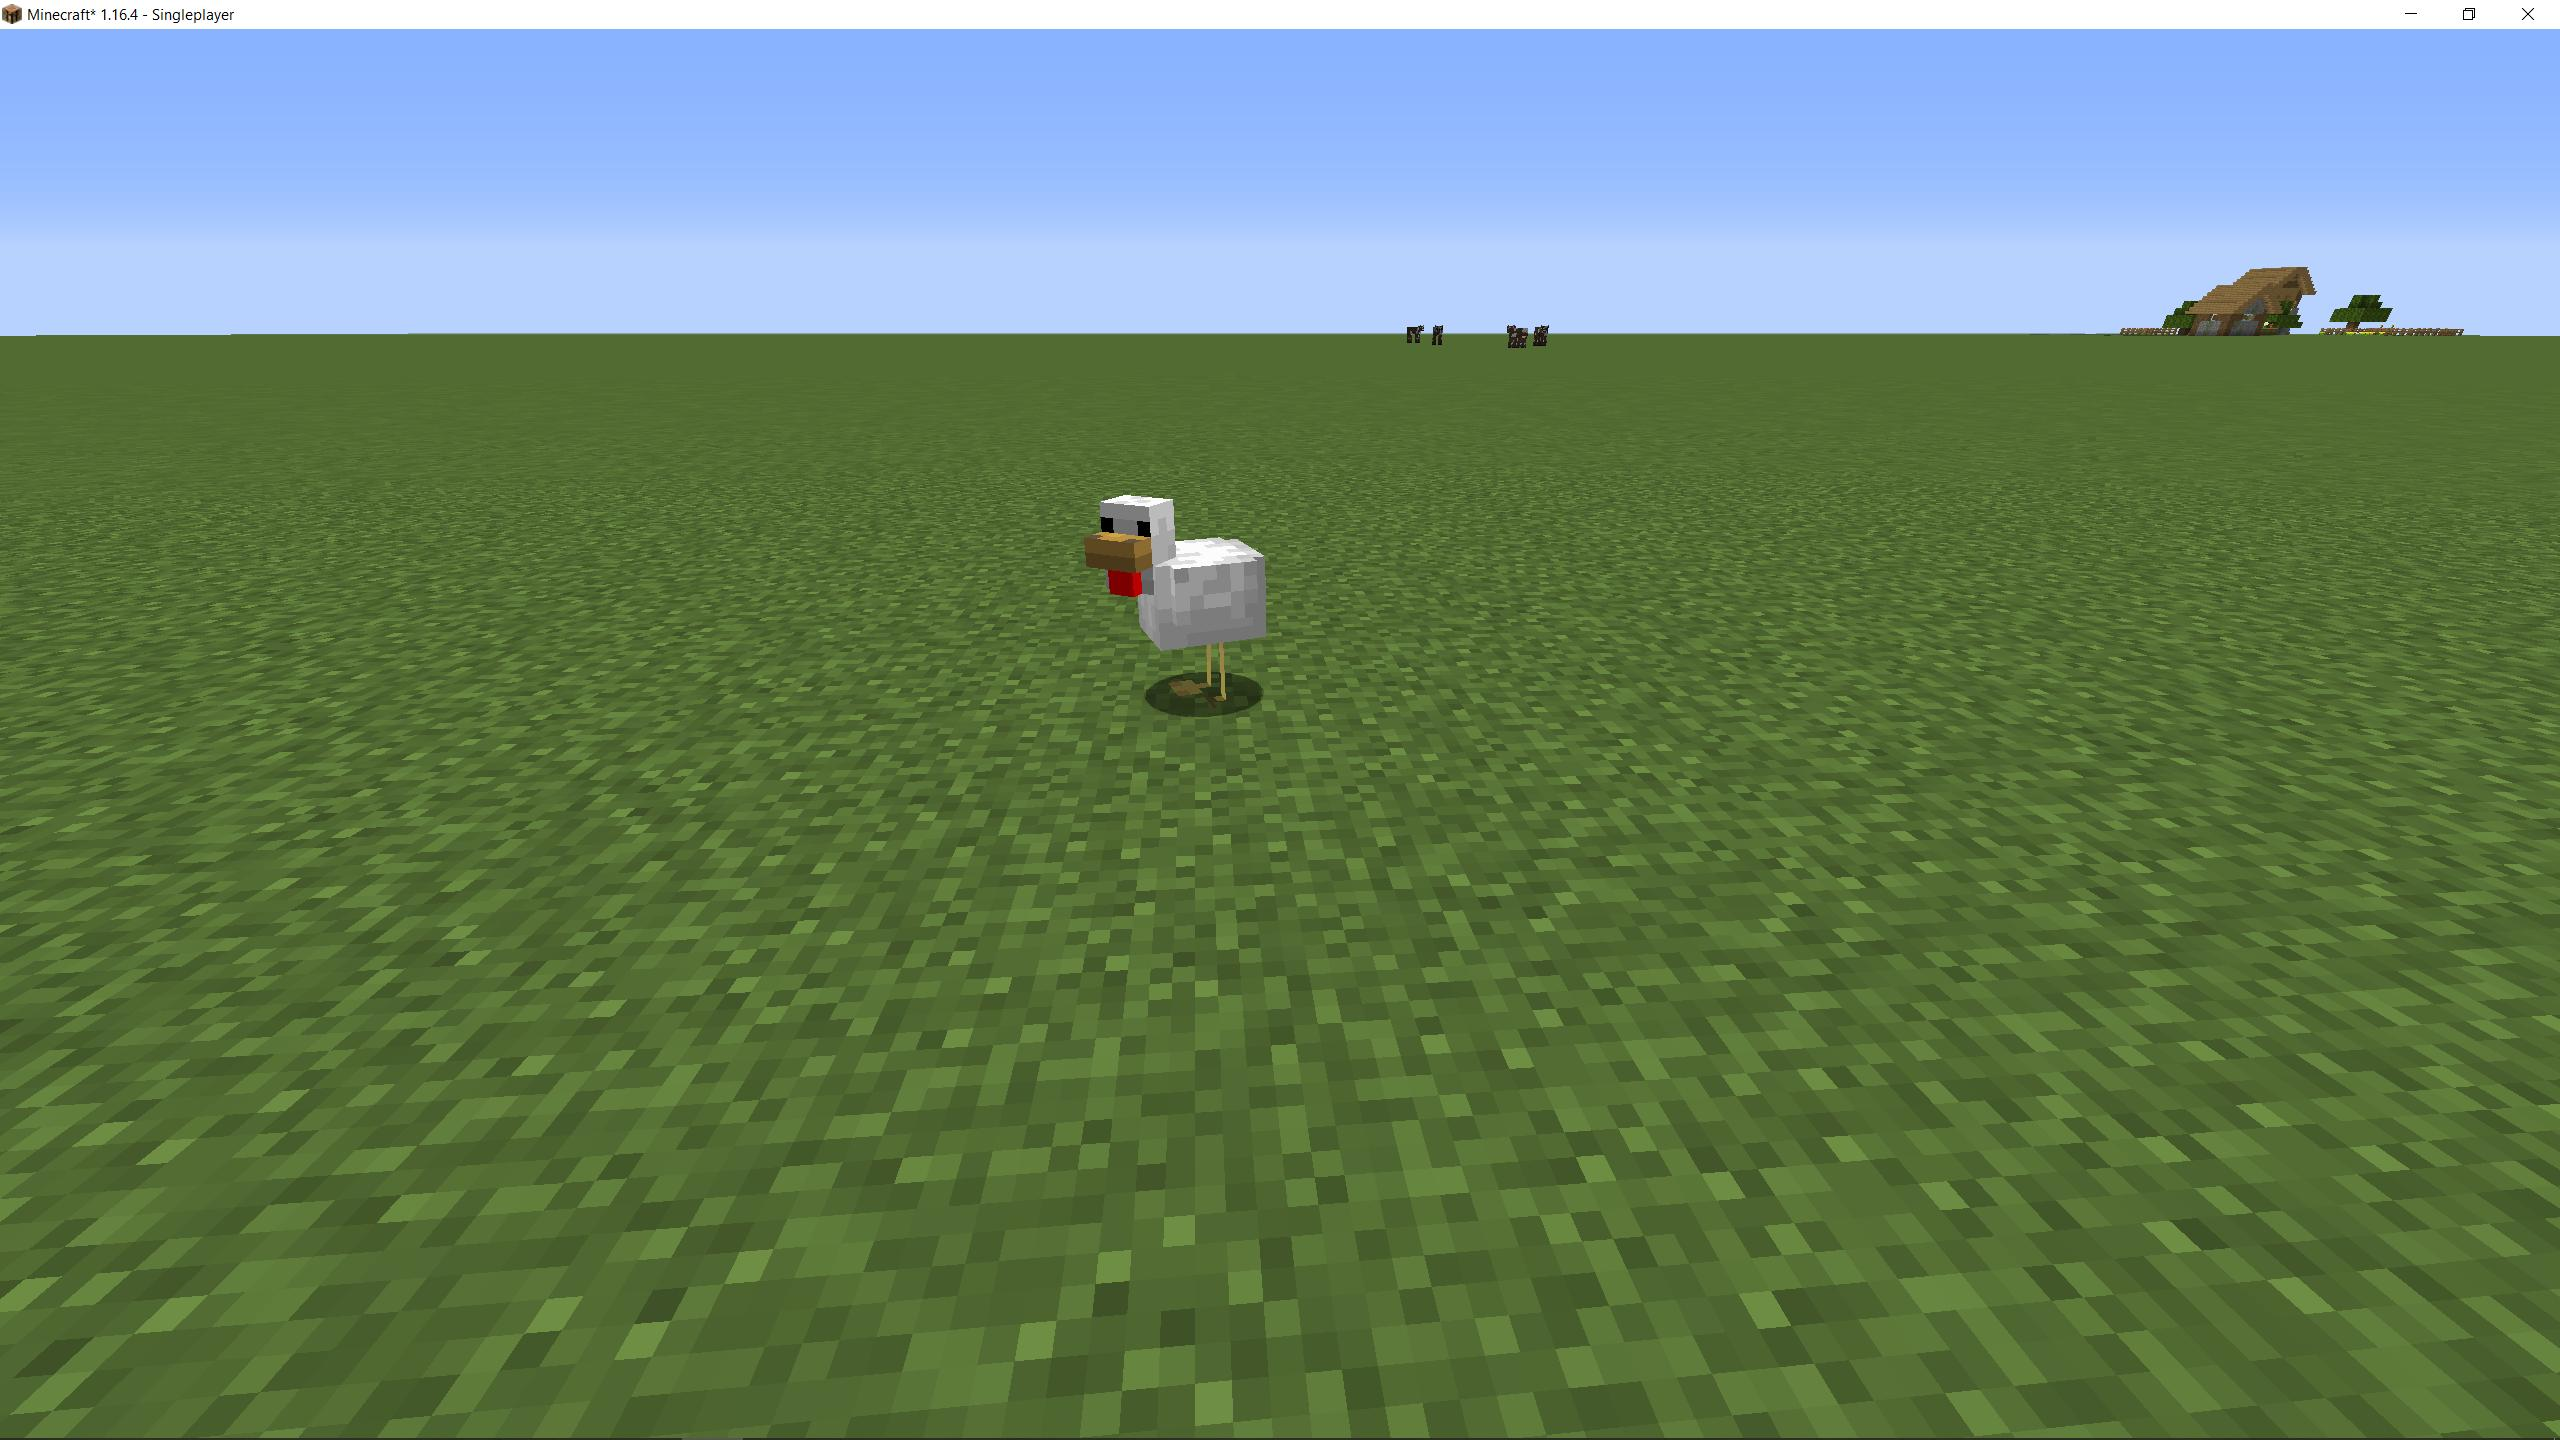chicken: (1081, 484, 1271, 717)
